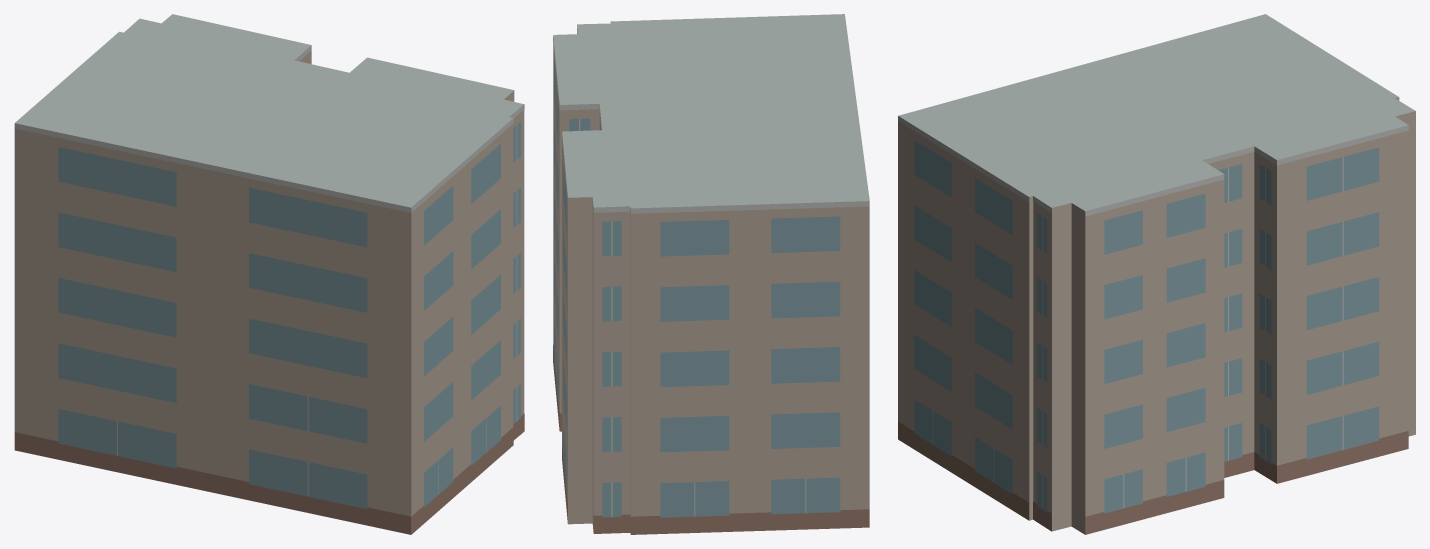
File: survey-upis-32663179.glb
3 views of the same model, side by side, from view 1: azimuth 30°, elevation 25°; view 2: azimuth 150°, elevation 25°; view 3: azimuth 270°, elevation 25° (orthographic).
Visible parts, largest first — view 1: survey-upis-32663179.tmp; view 2: survey-upis-32663179.tmp; view 3: survey-upis-32663179.tmp.
Part boxes in pixels (<box>): survey-upis-32663179.tmp: <box>14,14,524,534</box>; survey-upis-32663179.tmp: <box>553,14,869,534</box>; survey-upis-32663179.tmp: <box>898,14,1415,534</box>.
Bounding box in the file's own units: 19.48 × 14.9 × 21.61.
